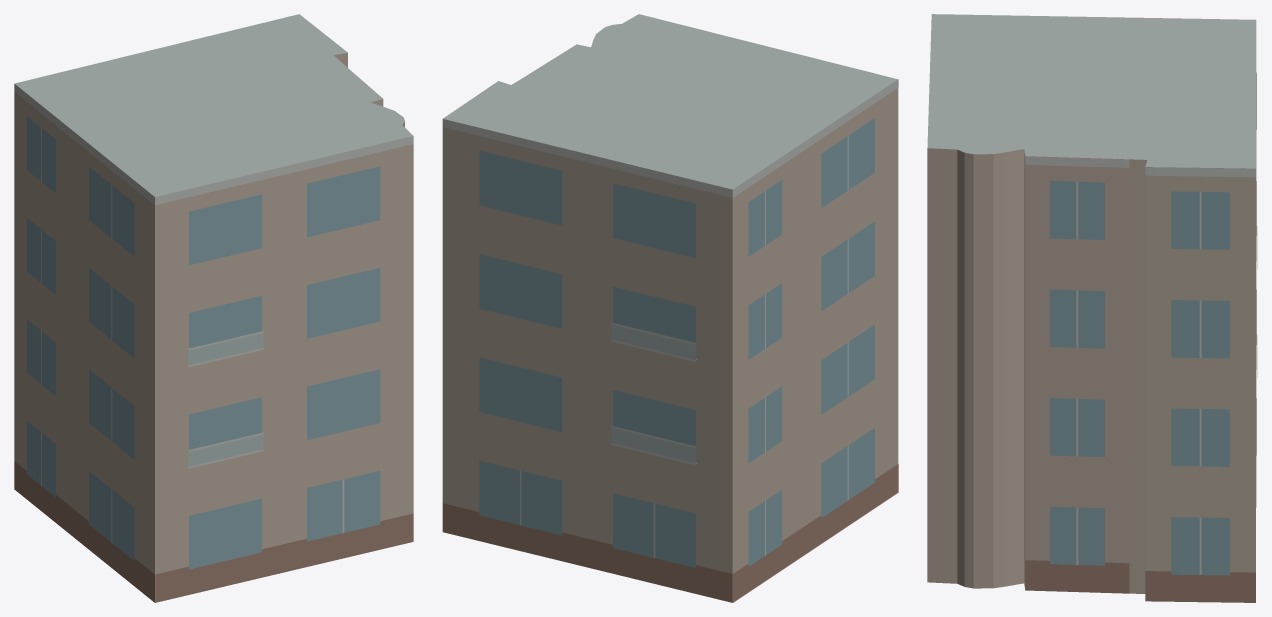
Rendered from survey-upis-32516507.glb.
The picture shows the model from 3 angles, left to right: view 1: azimuth 30°, elevation 25°; view 2: azimuth 150°, elevation 25°; view 3: azimuth 270°, elevation 25°; orthographic projection. The views are drawn at different scales.
Visible parts, largest first — view 1: survey-upis-32516507.tmp; view 2: survey-upis-32516507.tmp; view 3: survey-upis-32516507.tmp.
Boxes of the visible parts, x1,y1,x2,y2 form: survey-upis-32516507.tmp: [14, 14, 413, 602]; survey-upis-32516507.tmp: [442, 14, 898, 602]; survey-upis-32516507.tmp: [927, 14, 1257, 602].
Bounding box in the file's own units: 9.32 × 12.2 × 8.42.
